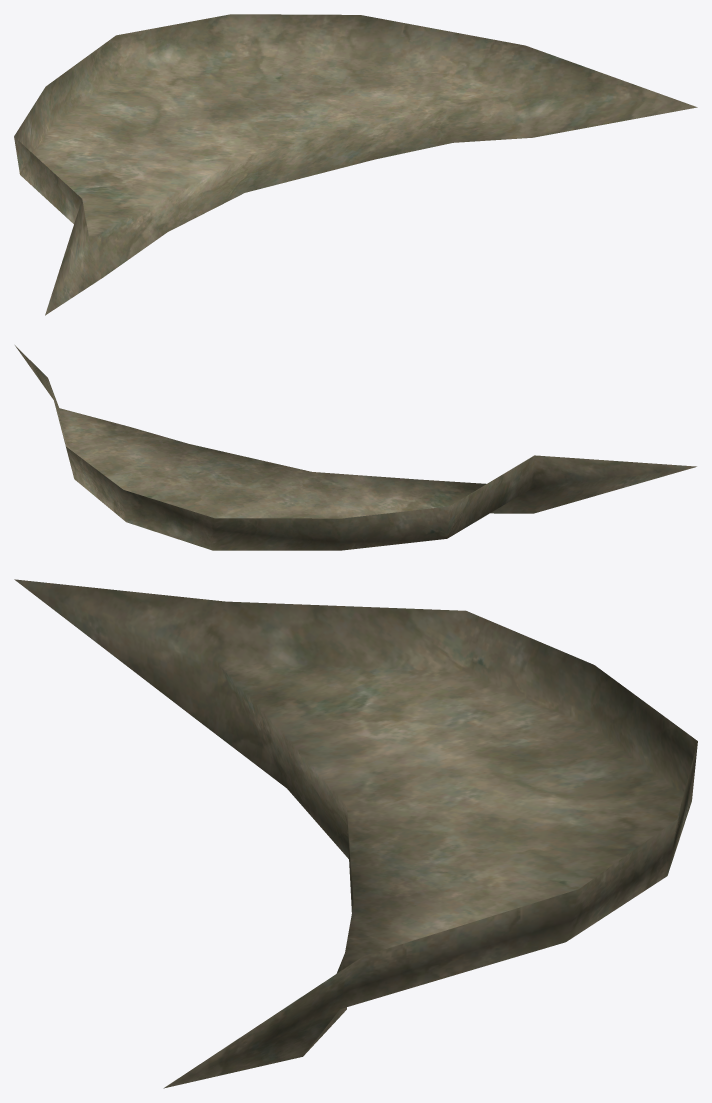
The model's file is EKH_CAVERNS_PS_CA_PLATFORM487553.fbx.
3 renders of one model, top to bottom at view 1: azimuth 30°, elevation 25°; view 2: azimuth 150°, elevation 25°; view 3: azimuth 270°, elevation 25°, orthographic. The views are drawn at different scales.
Parts seen in each view (by area): view 1: EKH_CAVERNS_PS_CA_PLATFORM487553; view 2: EKH_CAVERNS_PS_CA_PLATFORM487553; view 3: EKH_CAVERNS_PS_CA_PLATFORM487553.
Part boxes in pixels (x1=…): EKH_CAVERNS_PS_CA_PLATFORM487553: x1=14, y1=14, x2=697, y2=315; EKH_CAVERNS_PS_CA_PLATFORM487553: x1=15, y1=345, x2=696, y2=550; EKH_CAVERNS_PS_CA_PLATFORM487553: x1=14, y1=579, x2=697, y2=1088.
Bounding box in the file's own units: 61659 × 6218 × 34998.
Materials: 1 (1 with a texture image).
